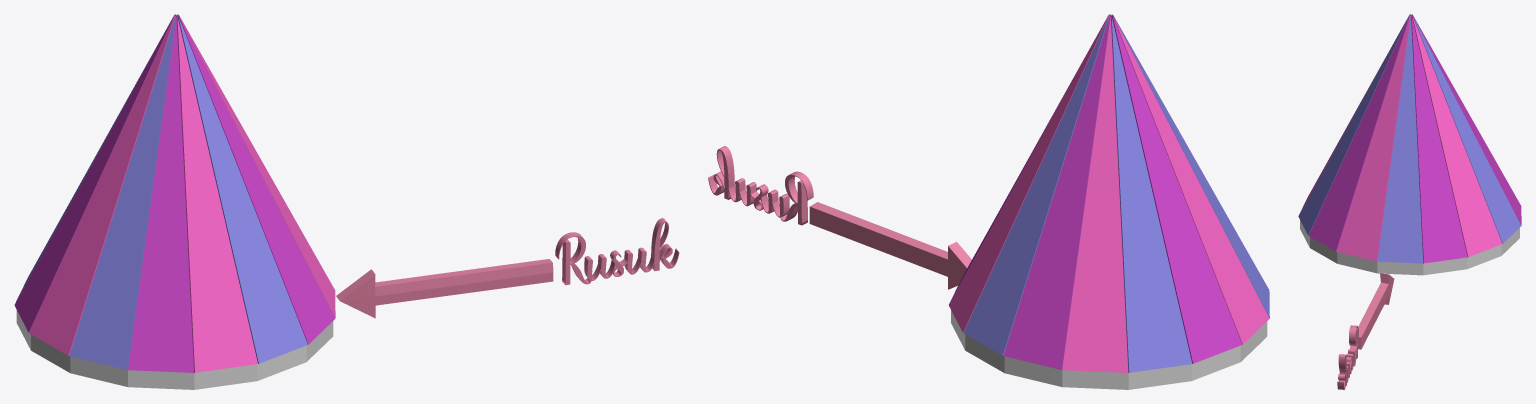
Rendered from Rusuk-Kerucut.fbx.
3 views of the same model, side by side, from view 1: azimuth 30°, elevation 25°; view 2: azimuth 150°, elevation 25°; view 3: azimuth 270°, elevation 25° (orthographic). The views are drawn at different scales.
Visible parts, largest first — view 1: Cone.006, Cone.007, Cone.005, Cone.008, Cone.004, Cone.009, Cone.016, Cube, Cone.003, Text, Cone.010; view 2: Cone.001, Cone.002, Cone.015, Cone.003, Cone.014, Cone.004, Cone.016, Cone.013, Cube, Text, Cone.005, Cone.012; view 3: Cone.011, Cone.012, Cone.010, Cone.013, Cone.009, Cone.014, Cone.016, Cone.008, Cone.015, Cube, Text, Cone.007.
Boxes of the visible parts, x1,y1,x2,y2 form: Cone.006: (128, 16, 194, 372); Cone.007: (176, 16, 257, 372); Cone.005: (69, 16, 176, 369); Cone.008: (177, 16, 307, 363); Cone.004: (29, 15, 175, 355); Cone.009: (178, 15, 335, 344); Cone.016: (16, 310, 333, 389); Cube: (336, 259, 553, 318); Cone.003: (14, 15, 174, 332); Text: (555, 218, 679, 285); Cone.010: (178, 15, 335, 318); Cone.001: (1062, 16, 1128, 372); Cone.002: (1111, 16, 1192, 372); Cone.015: (1003, 16, 1110, 369); Cone.003: (1111, 15, 1242, 363); Cone.014: (963, 15, 1109, 355); Cone.004: (1112, 15, 1269, 344); Cone.016: (951, 310, 1267, 389); Cone.013: (949, 15, 1108, 332); Cube: (809, 202, 971, 289); Text: (708, 146, 813, 225); Cone.005: (1112, 15, 1269, 318); Cone.012: (949, 15, 1109, 304); Cone.011: (1377, 16, 1423, 263); Cone.012: (1411, 15, 1467, 263); Cone.010: (1336, 15, 1410, 261); Cone.013: (1411, 15, 1502, 257); Cone.009: (1308, 15, 1409, 251); Cone.014: (1412, 15, 1521, 243); Cone.016: (1300, 220, 1519, 275); Cone.008: (1298, 15, 1409, 235); Cone.015: (1412, 14, 1521, 225); Cube: (1358, 273, 1394, 349); Text: (1337, 325, 1358, 389); Cone.007: (1299, 14, 1409, 214).
Size of the model in its own units: 427 by 228 by 201.
